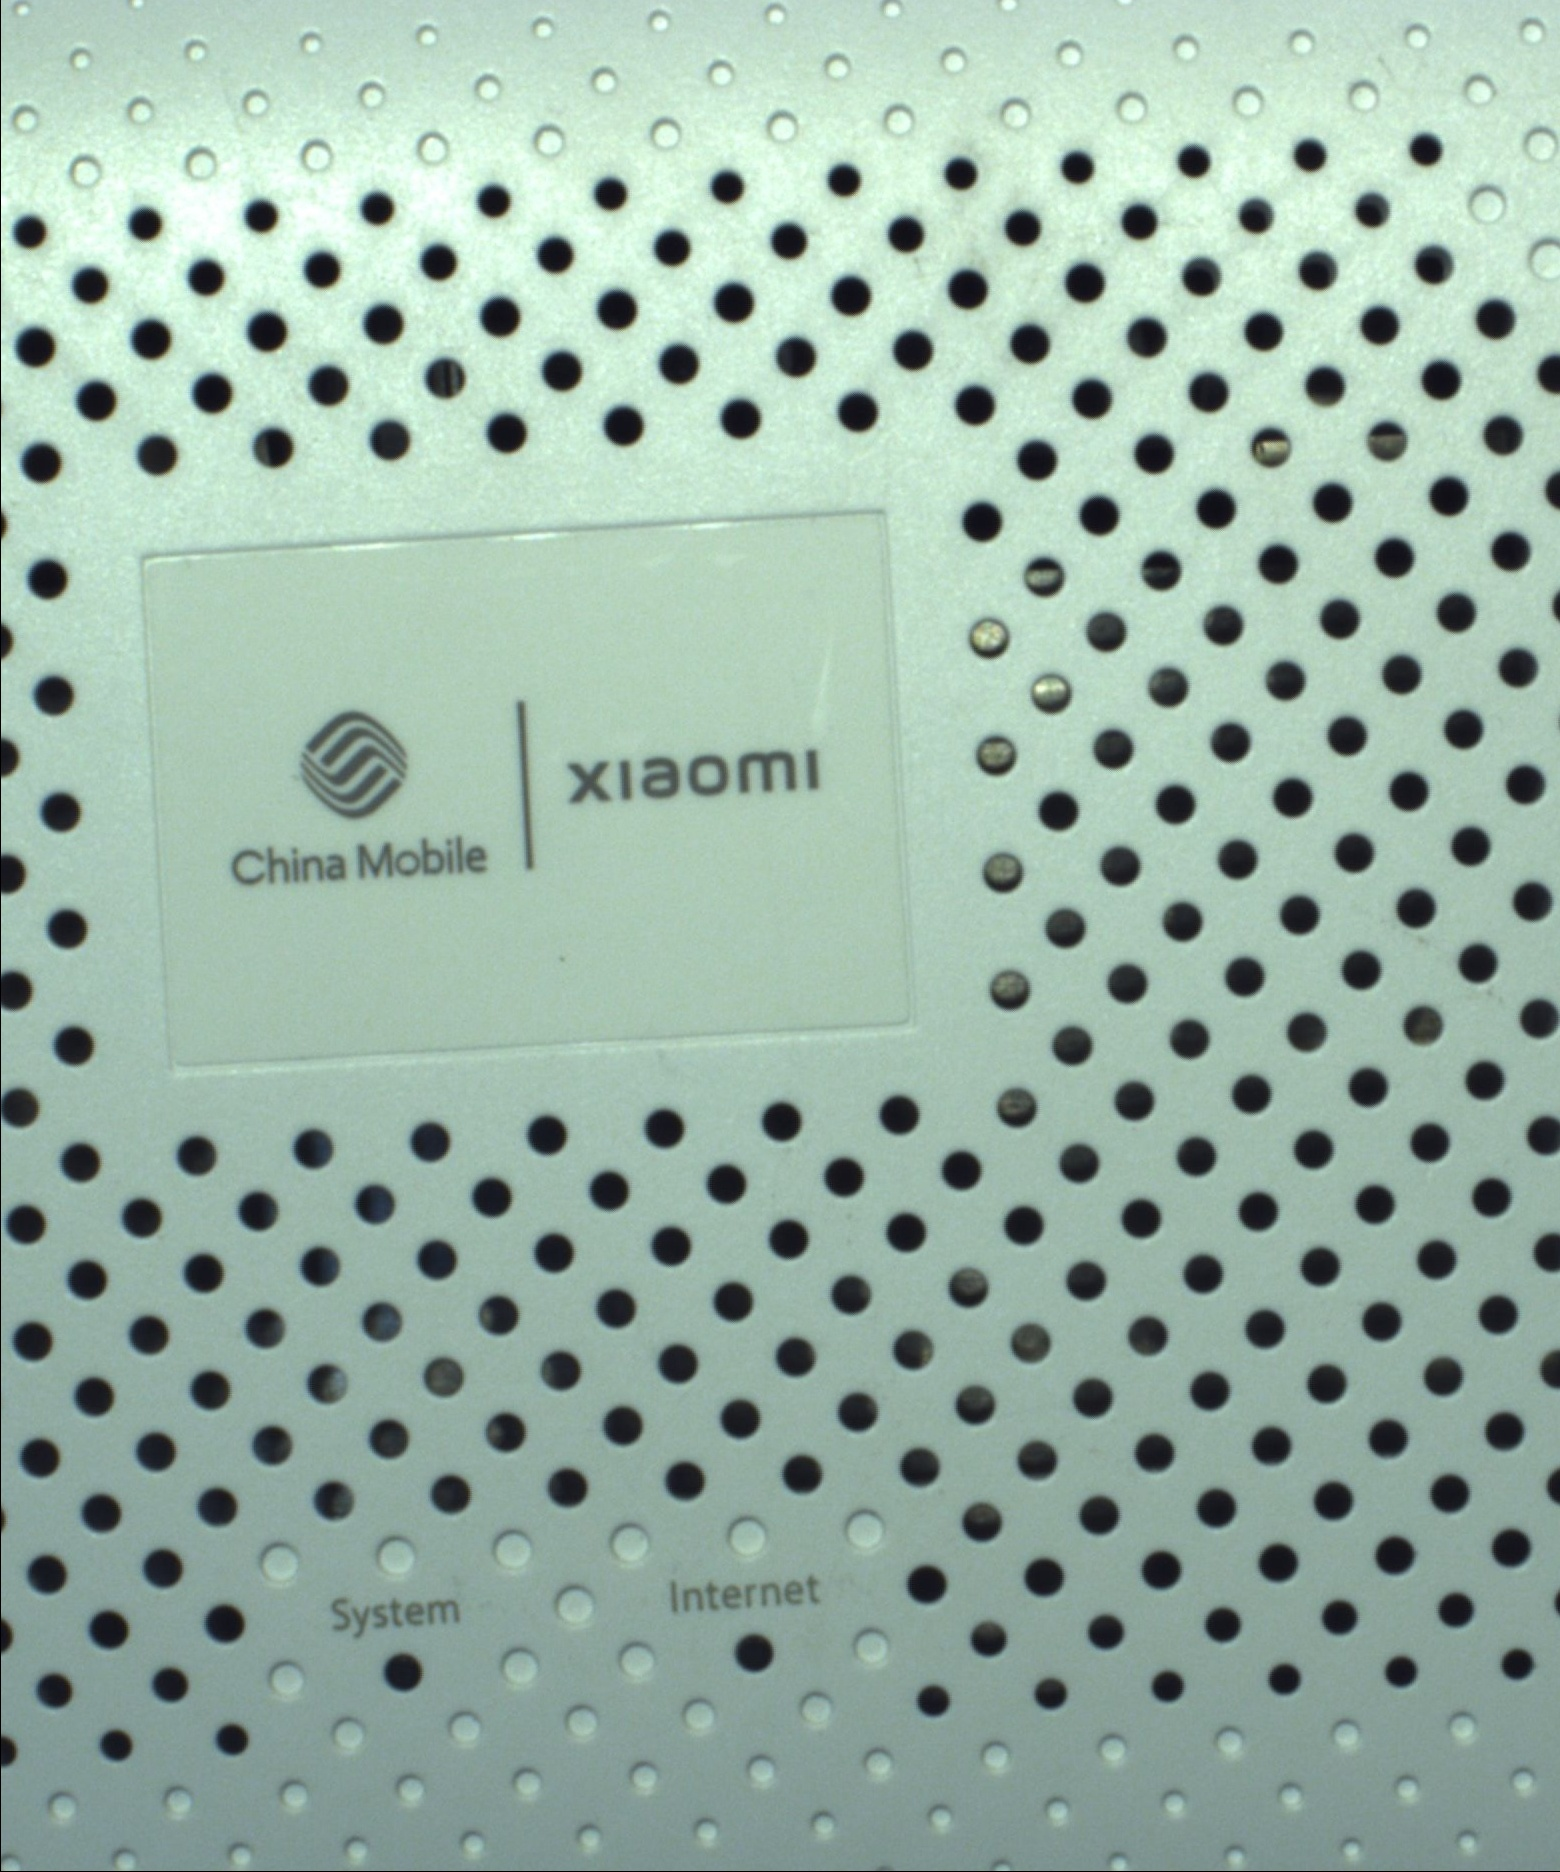MAD_ChinaMobile: (202, 687, 835, 910)
